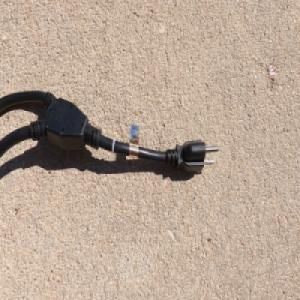Wire: (0, 87, 220, 176)
